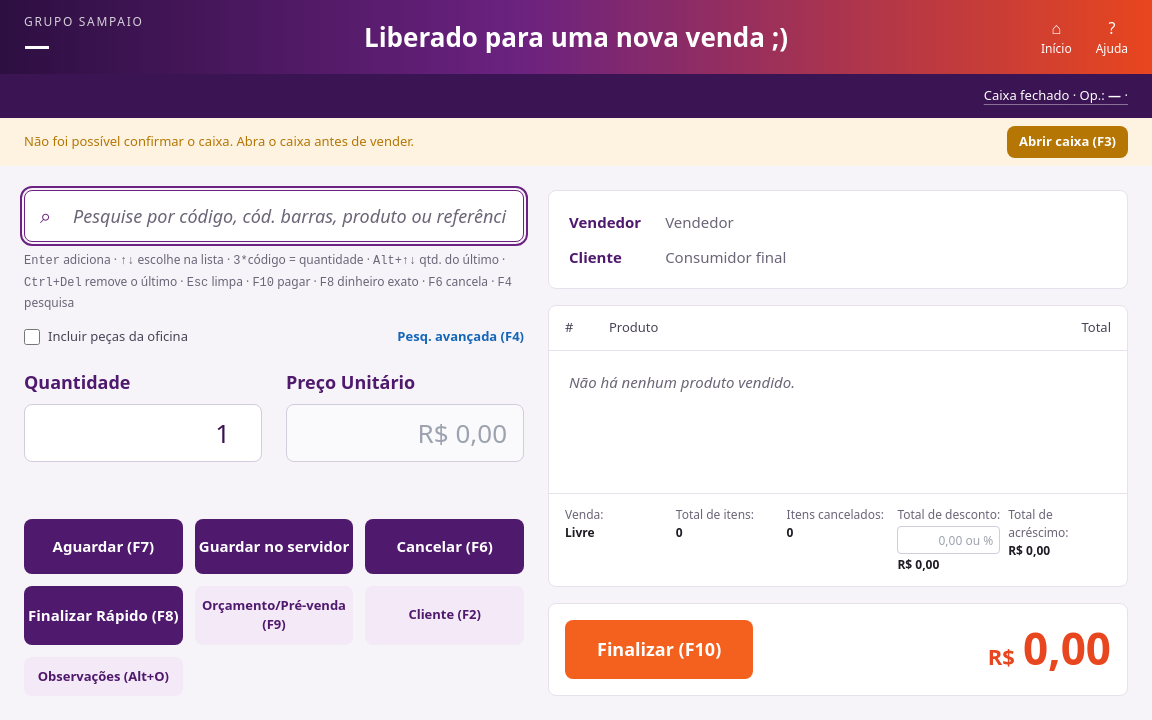
a busca viva do F2 › escolher cliente com tabela reprecifica o carrinho já bipado
In the field labelled "Pesquise por código, cód. barras, produto ou referência": (274, 216) [24,190,524,242], type "7890000001111"
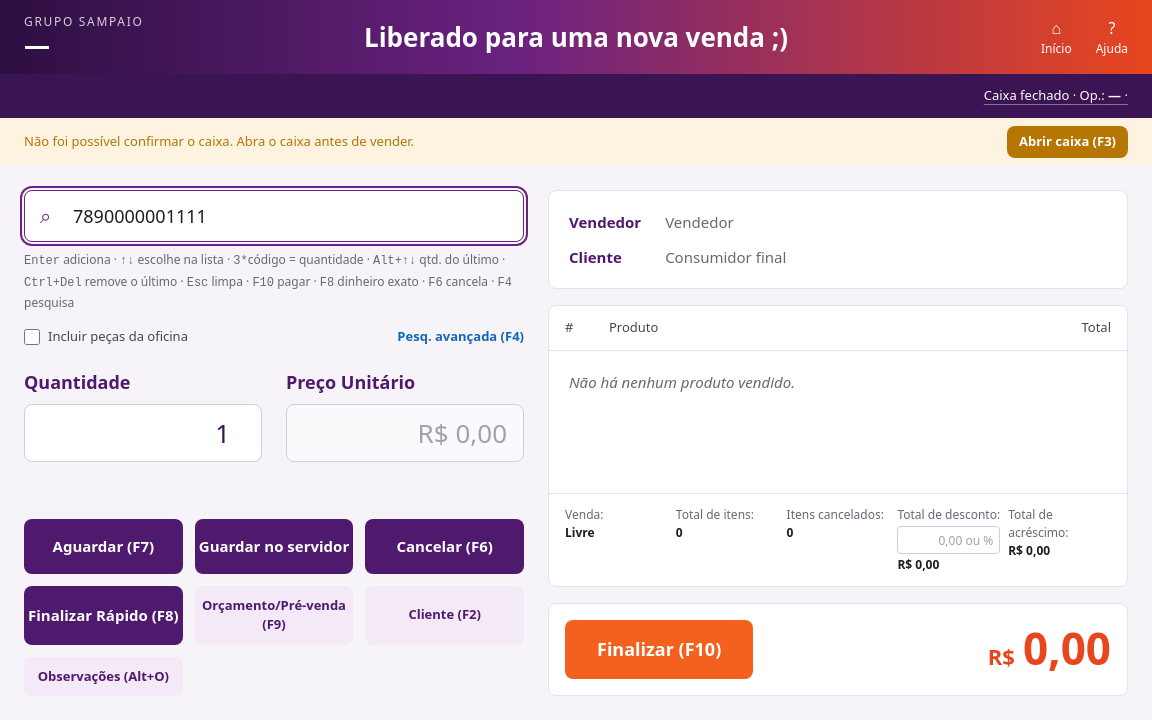
Press Enter in the field named "Pesquise por código", box [24,190,524,242]
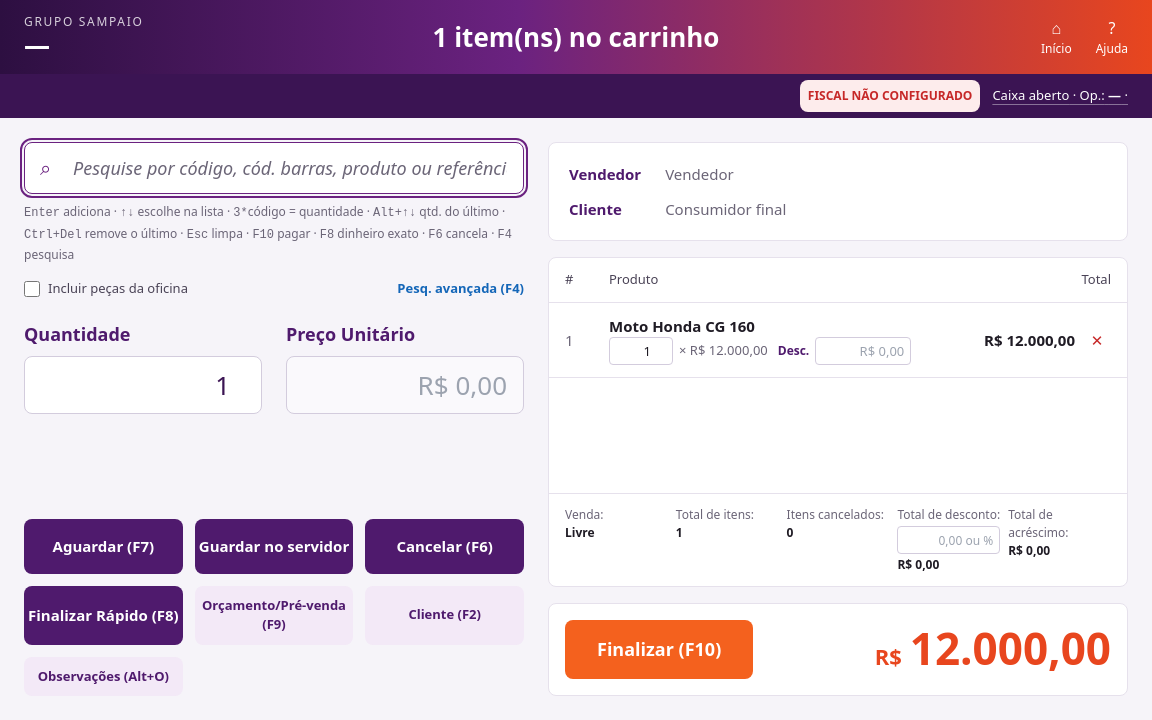
Expected: the button named "Remover " is shown, [1083,324,1111,356]
Click the button "Cliente (F2)": (445, 615) [365,586,524,644]
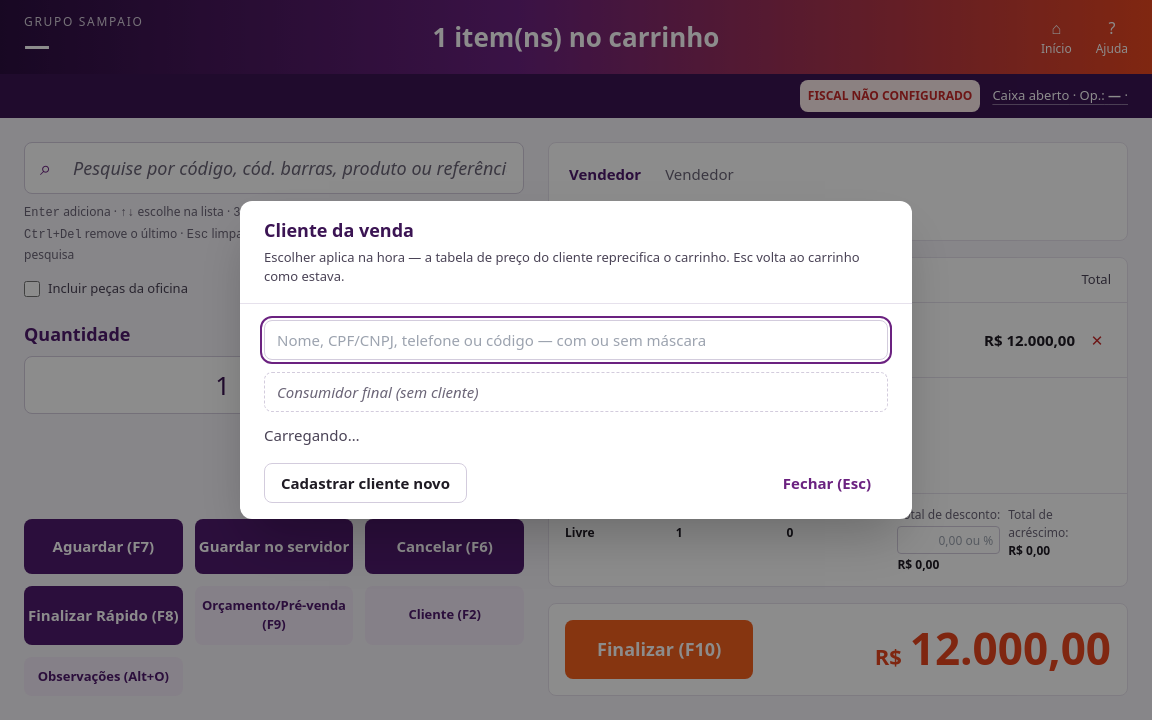
In the field named "Buscar cliente": (576, 340) [264,320,888,360], type "CLI-042"
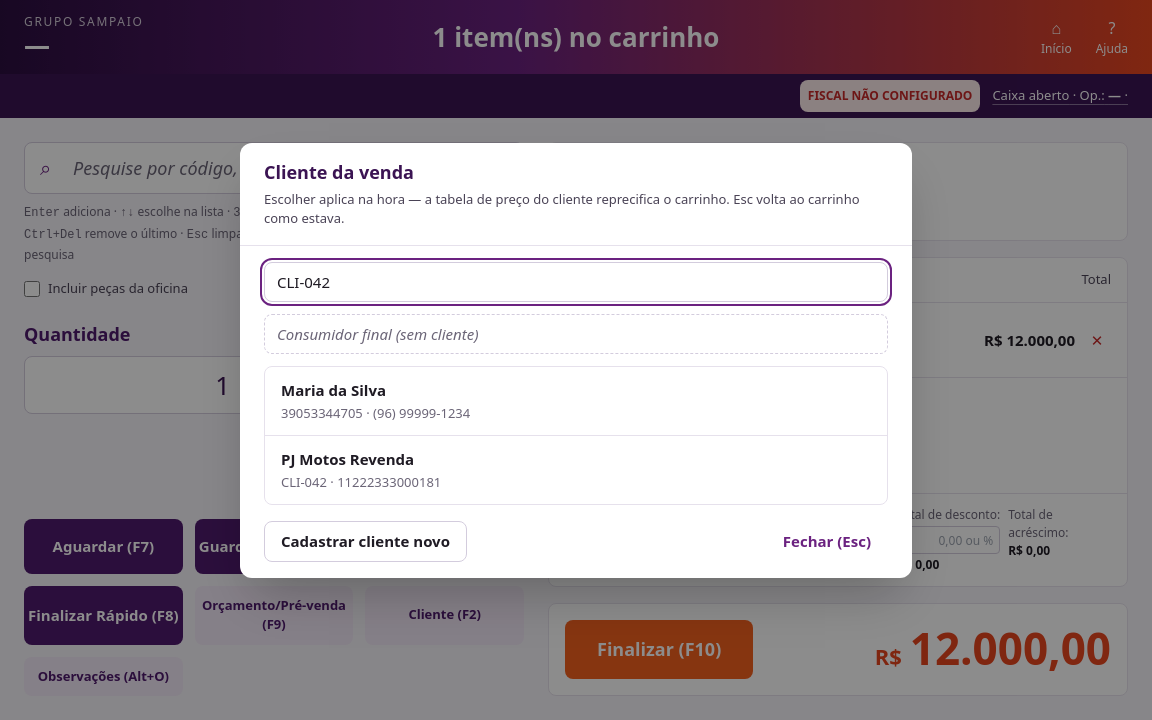
Click the button "PJ Motos Revenda": (348, 459) [265,436,887,504]
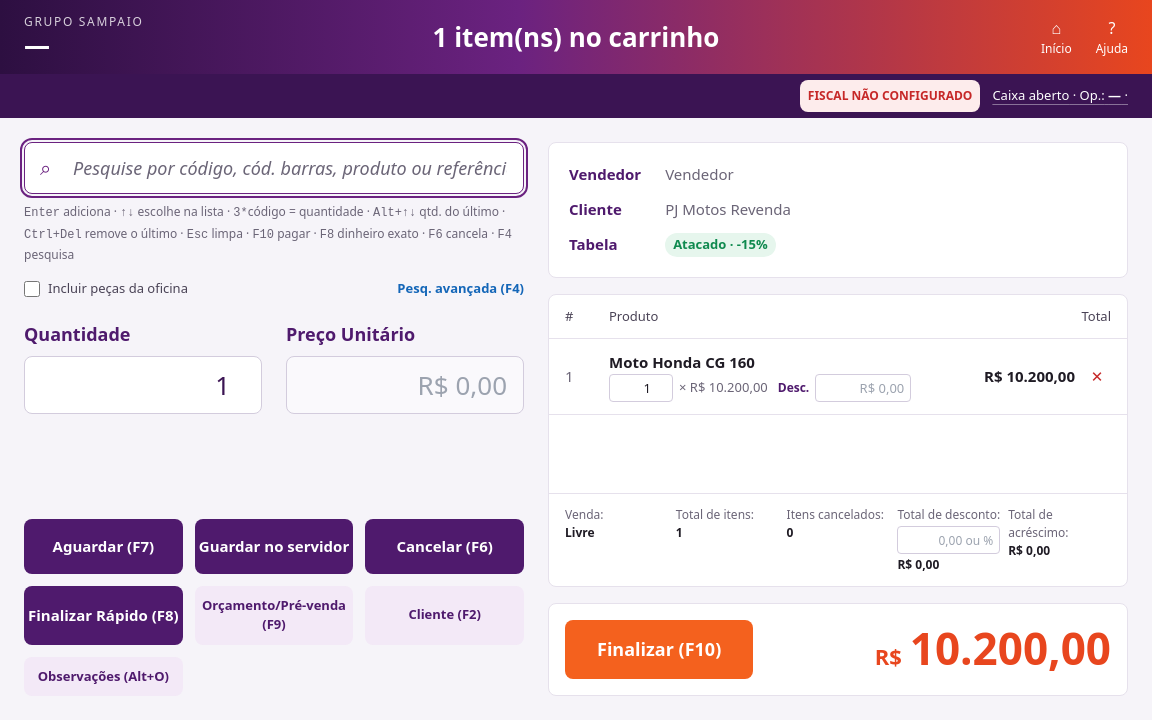
Expected: the element with test id "pdv-tabela-do-cliente" shows "Atacado", [673,235,768,253]
